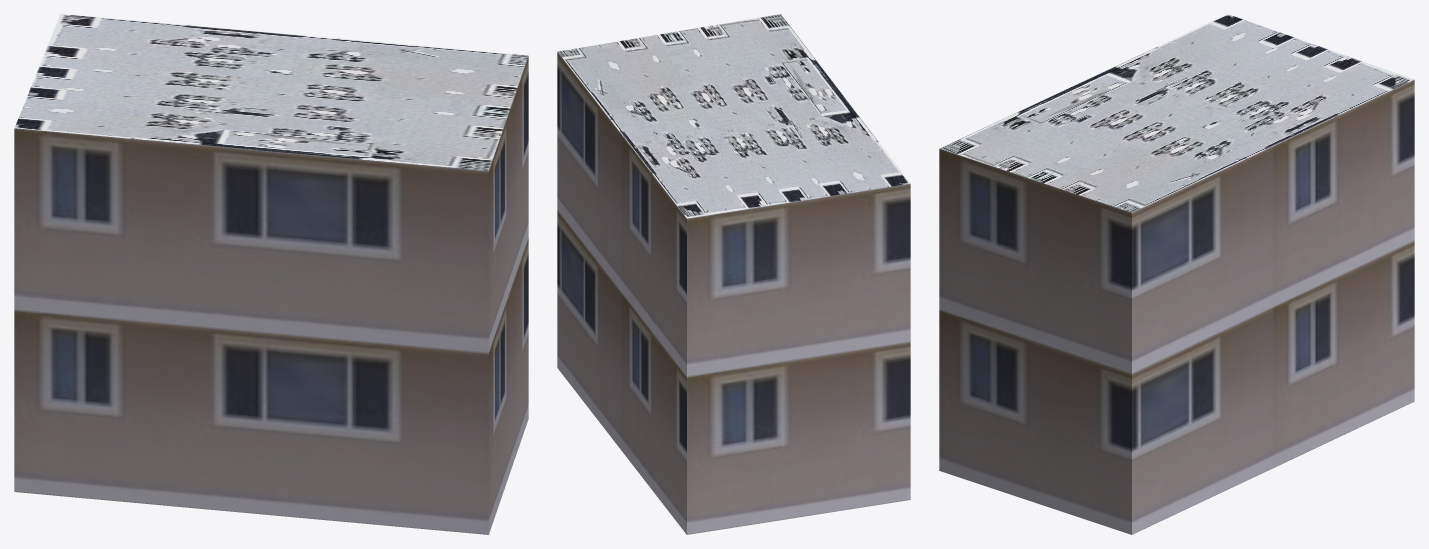
The model's file is ResTex__873.fbx.
The picture shows the model from 3 angles, left to right: view 1: azimuth 30°, elevation 25°; view 2: azimuth 150°, elevation 25°; view 3: azimuth 270°, elevation 25°; orthographic projection. The views are drawn at different scales.
Parts seen in each view (by area): view 1: CityEngineMaterial_21_m, CityEngineMaterial_4_m; view 2: CityEngineMaterial_21_m, CityEngineMaterial_4_m; view 3: CityEngineMaterial_21_m, CityEngineMaterial_4_m.
Boxes of the visible parts, x1,y1,x2,y2 form: CityEngineMaterial_21_m: (14,56,528,534); CityEngineMaterial_4_m: (14,14,528,171); CityEngineMaterial_21_m: (557,52,910,534); CityEngineMaterial_4_m: (558,14,910,218); CityEngineMaterial_21_m: (939,79,1414,534); CityEngineMaterial_4_m: (940,14,1413,212).
Size of the model in its own units: 7.94 by 6 by 8.02.
Materials: 2 (2 with a texture image).
